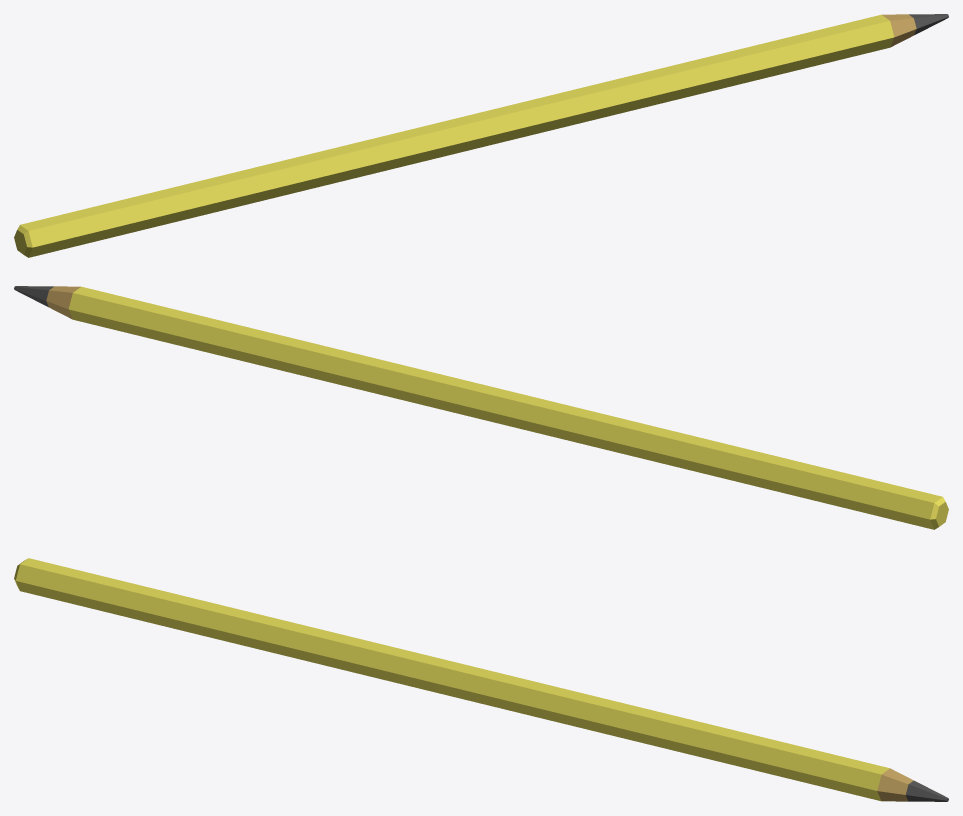
Rendered from Blyant_Gul.fbx.
The picture shows the model from 3 angles, top to bottom: view 1: azimuth 30°, elevation 25°; view 2: azimuth 150°, elevation 25°; view 3: azimuth 330°, elevation 25°; orthographic projection.
Parts seen in each view (by area): view 1: Cylinder.008; view 2: Cylinder.008; view 3: Cylinder.008.
Part boxes in pixels (bbox=[...]): Cylinder.008: bbox=[14, 14, 948, 257]; Cylinder.008: bbox=[14, 286, 948, 529]; Cylinder.008: bbox=[14, 558, 948, 801].
Size of the model in its own units: 32.67 by 0.9034 by 1.04.
